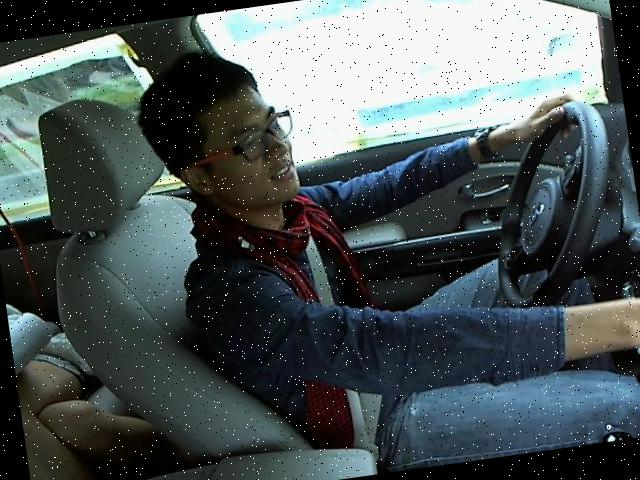c3 - Operating the Radio: (126, 0, 639, 429)
